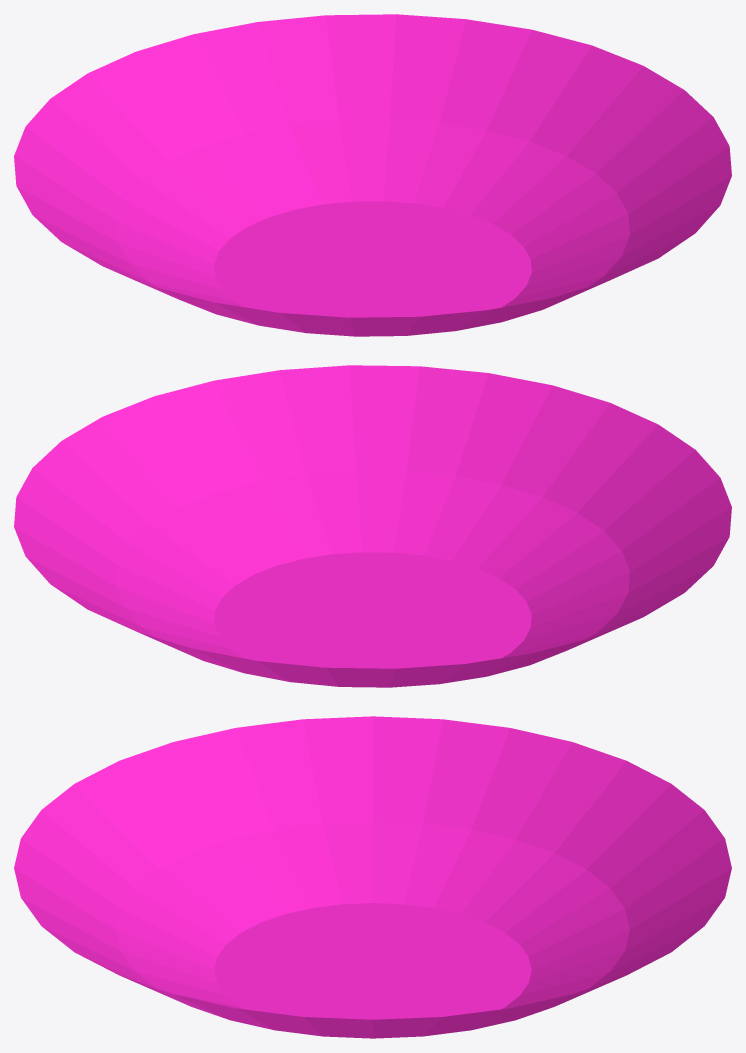
The model's file is cup.glb.
3 renders of one model, top to bottom at view 1: azimuth 30°, elevation 25°; view 2: azimuth 150°, elevation 25°; view 3: azimuth 270°, elevation 25°, orthographic.
Parts seen in each view (by area): view 1: Circle; view 2: Circle; view 3: Circle.
Boxes of the visible parts, <box> form: Circle: <box>14,14,731,336</box>; Circle: <box>14,365,731,687</box>; Circle: <box>14,716,731,1038</box>.
Bounding box in the file's own units: 4.52 × 0.709 × 4.52.
